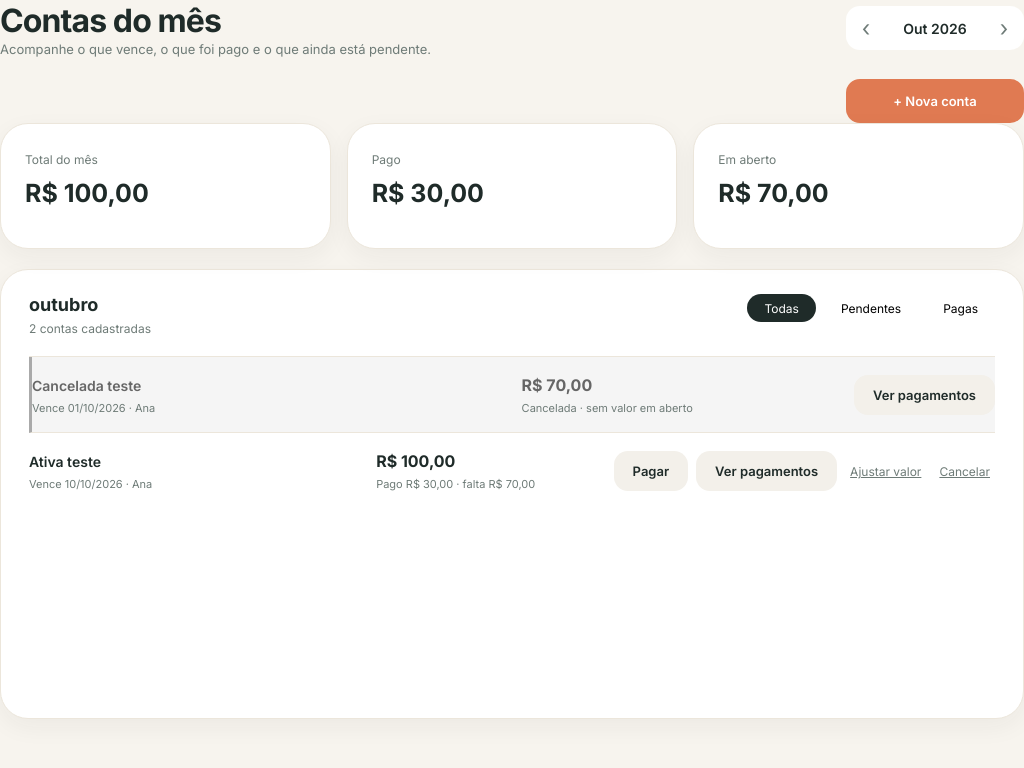
Test case: preenche ajuste com valor atual e exclui canceladas do filtro pendente
Click the button "Ajustar valor". click: [886, 471]
box: [845,451,926,491]
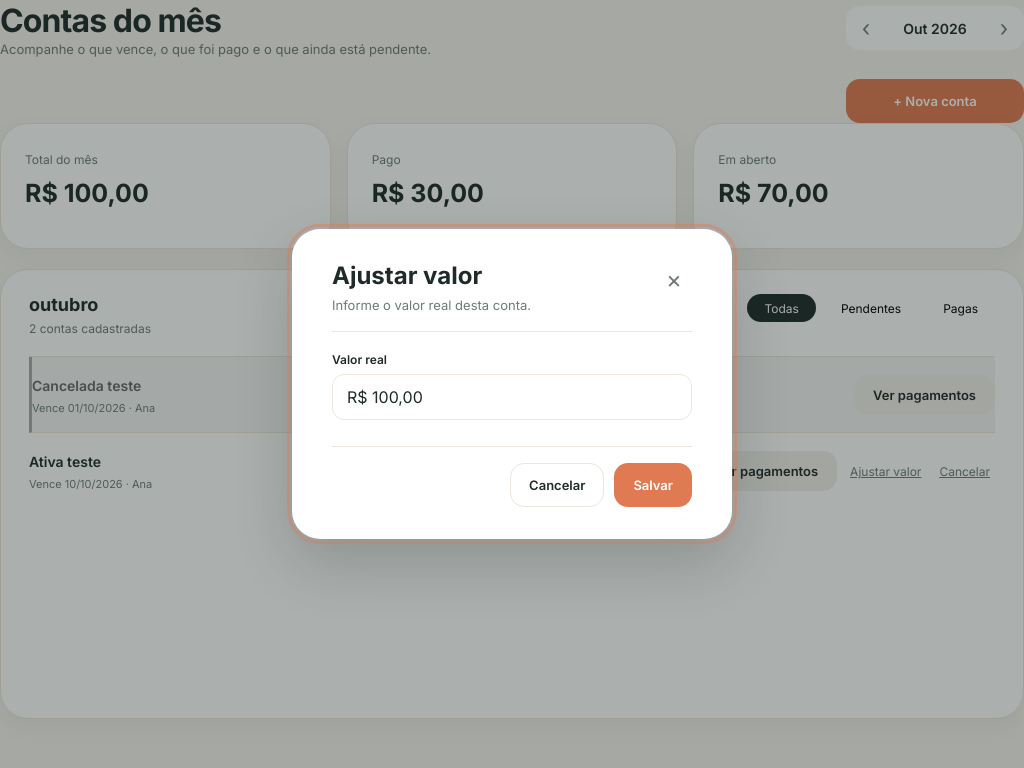
Now the field labelled "Valor real" holds "R$ 100,00", box [332,374,692,420]
Click the button "Cancelar". click: [557, 485]
box: [510,463,604,507]
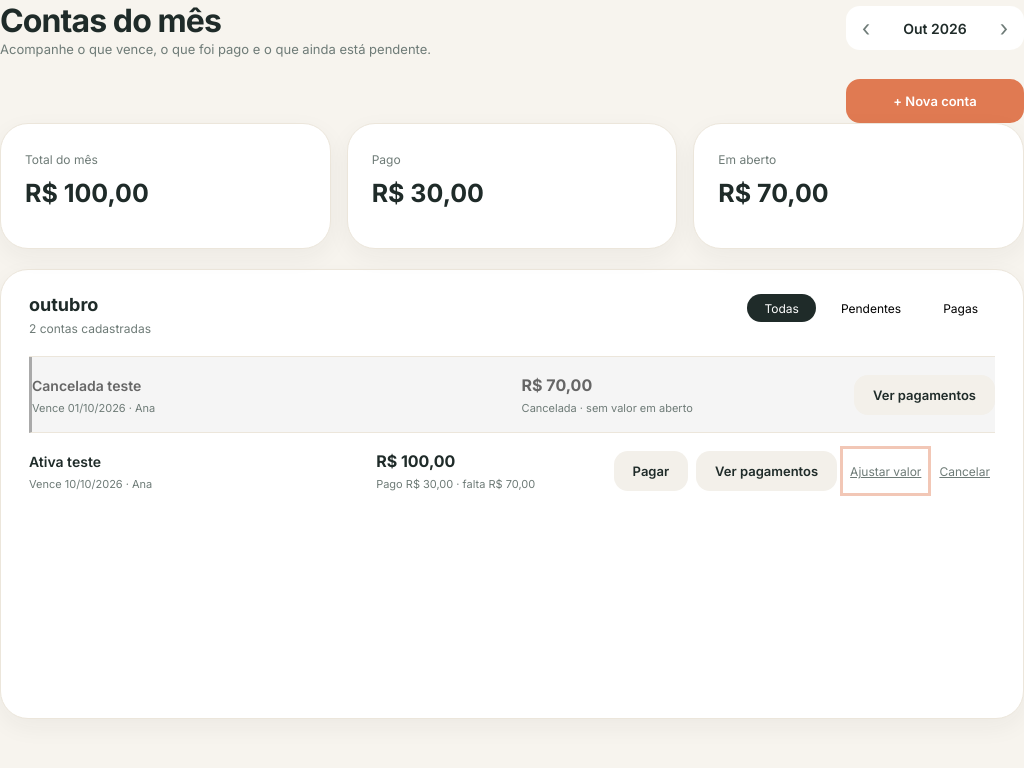
Click the tab "Pendentes". click: [871, 308]
box: [824,294,918,322]
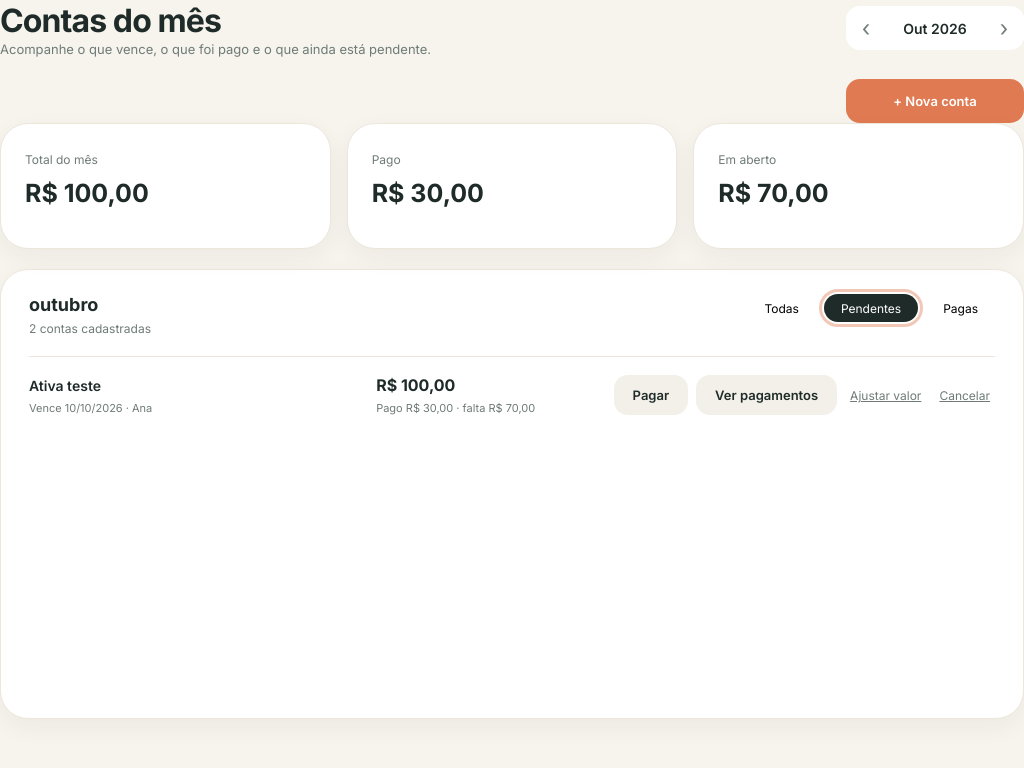
Expected: the text "Ativa teste" is shown, [29,377,101,394]
Now the text "Cancelada teste" is gone
